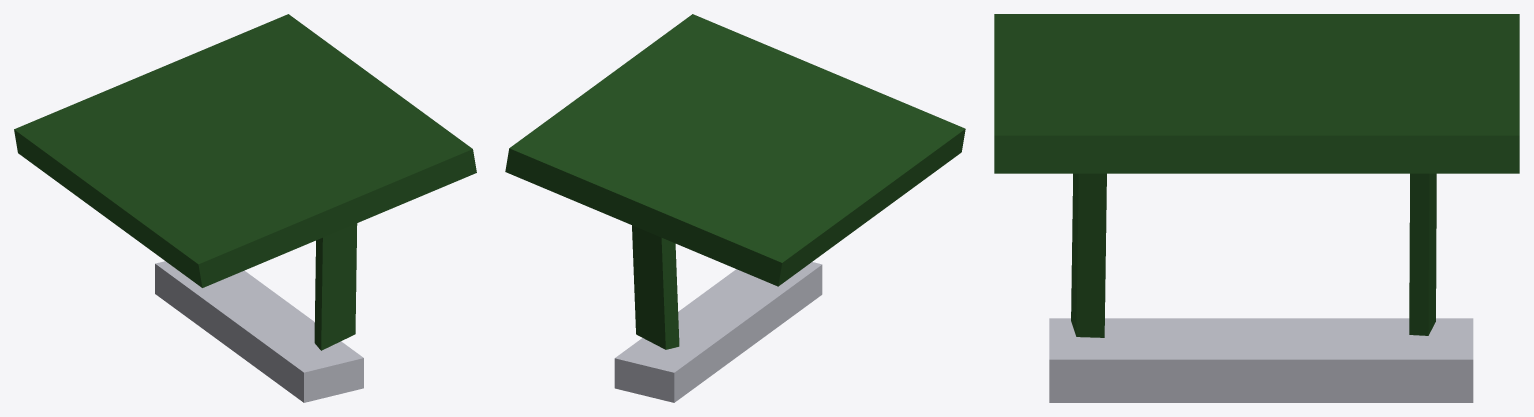
Rendered from FrontGateBench_FIN.glb.
3 views of the same model, side by side, from view 1: azimuth 30°, elevation 25°; view 2: azimuth 150°, elevation 25°; view 3: azimuth 270°, elevation 25° (orthographic). The views are drawn at different scales.
Parts seen in each view (by area): view 1: Cube.001, Cube; view 2: Cube.001, Cube; view 3: Cube.001, Cube.
Part boxes in pixels (box(x1,y1,x2,y2)): Cube.001: box(14, 14, 476, 350); Cube: box(155, 261, 363, 402); Cube.001: box(505, 14, 965, 349); Cube: box(614, 262, 822, 402); Cube.001: box(994, 14, 1519, 337); Cube: box(1049, 318, 1473, 402).
Size of the model in its own units: 8.36 by 6.64 by 9.59.
